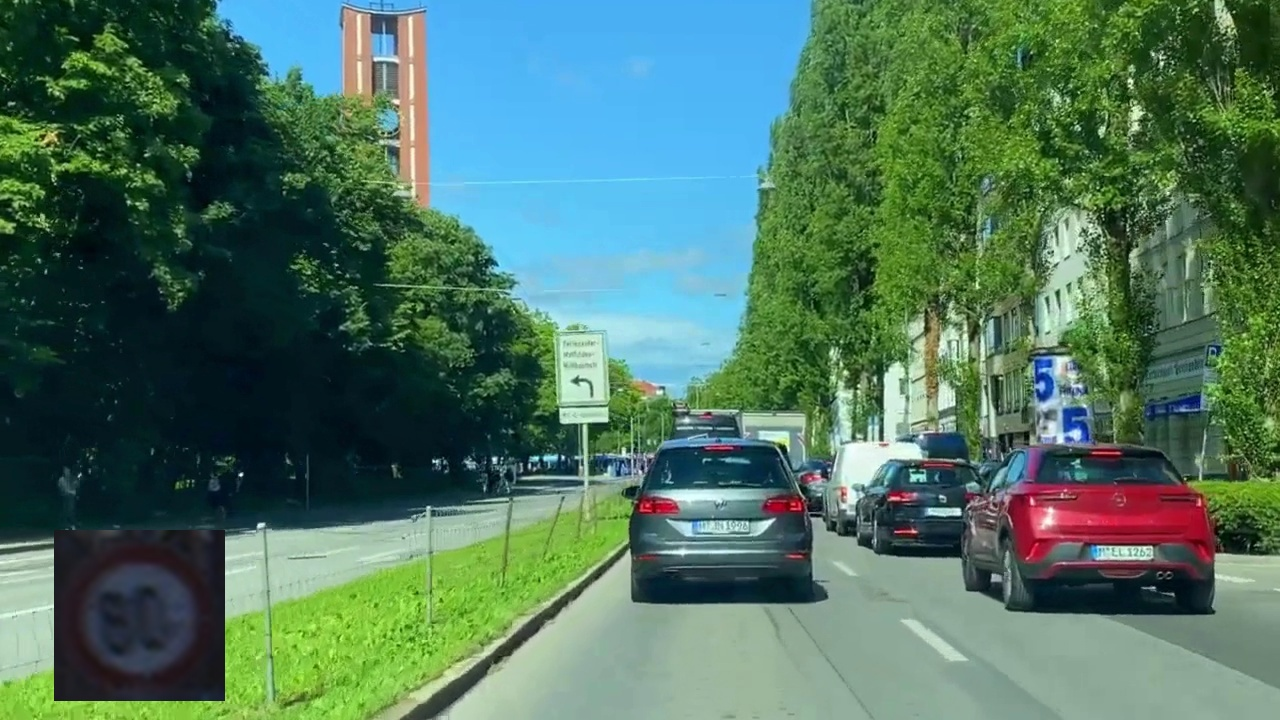Speed 80: (54, 530, 225, 701)
